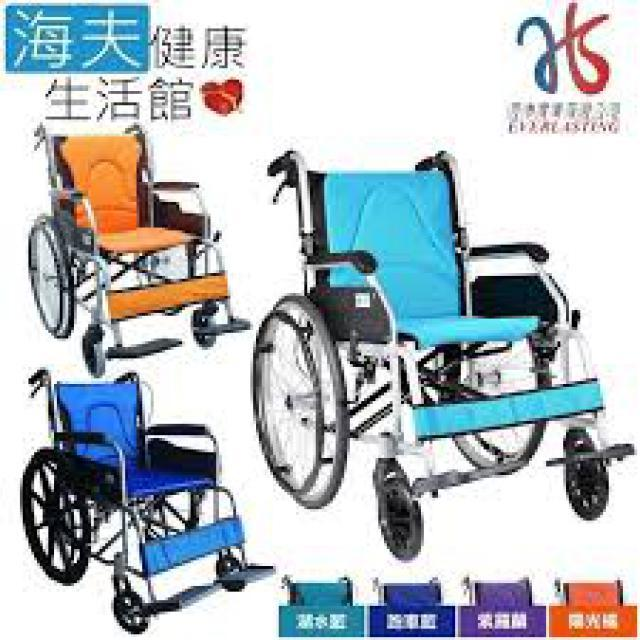wheelchair: (244, 145, 632, 543), (0, 362, 270, 632), (11, 111, 225, 367)
